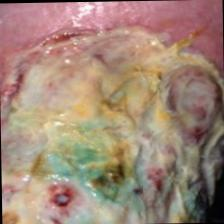wound-ulser: (0, 15, 201, 224)
